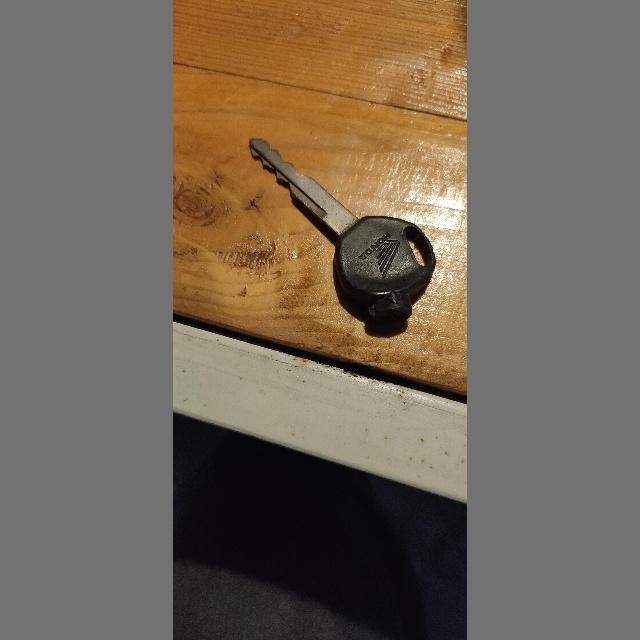Keys: (245, 132, 440, 336)
